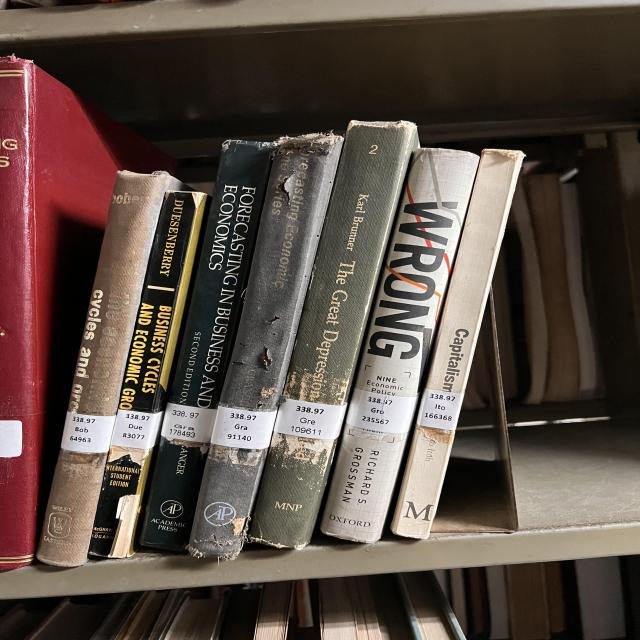Book: (0, 56, 175, 570), (250, 121, 418, 549), (188, 134, 343, 559), (322, 149, 478, 542), (37, 170, 182, 566), (140, 140, 275, 551), (392, 150, 523, 539), (90, 191, 207, 558)
Label: (347, 389, 417, 434), (273, 399, 347, 440), (210, 406, 277, 449), (162, 402, 217, 442), (62, 411, 115, 452), (110, 409, 163, 449), (417, 389, 463, 430), (0, 420, 22, 458)
